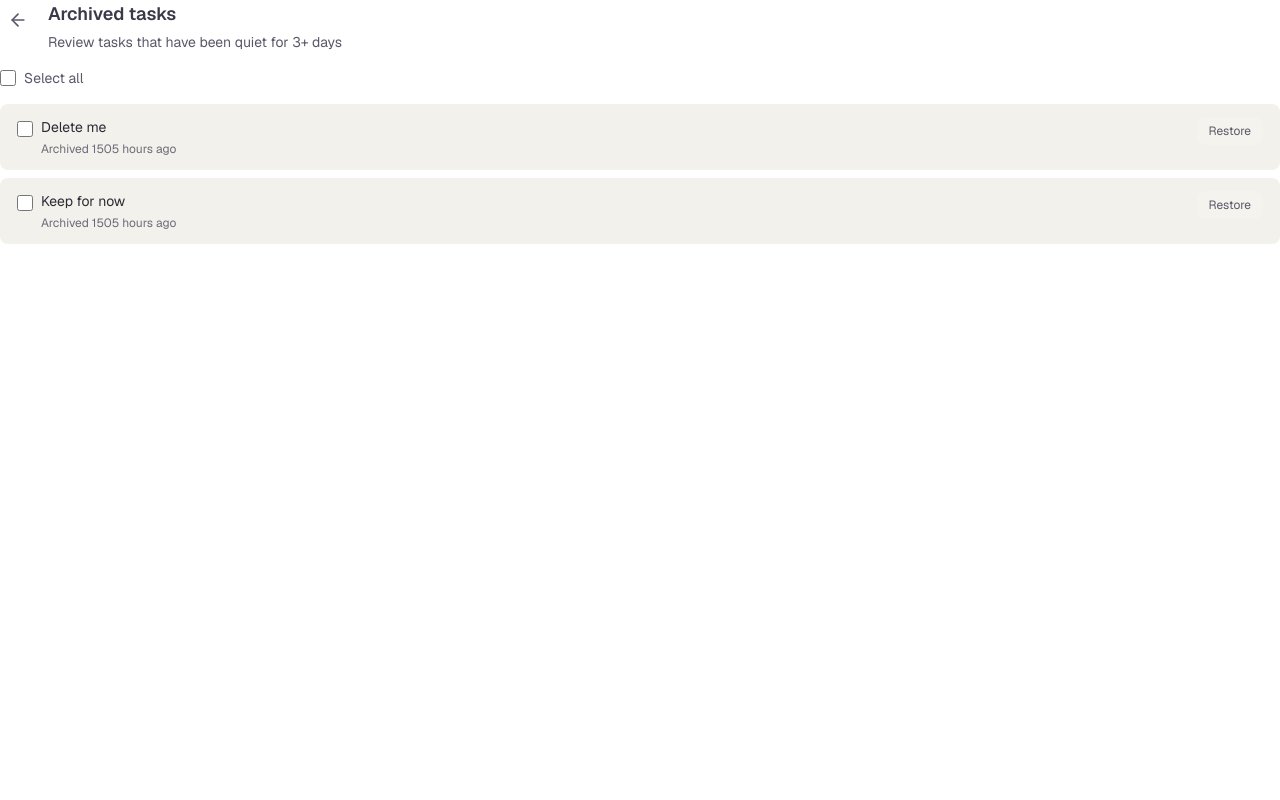
Test: TaskArchiveView › requires confirmation before deleting selected tasks
Click the 1st checkbox with test id "archived-task-checkbox" at point(25, 129), box [17, 121, 33, 137]
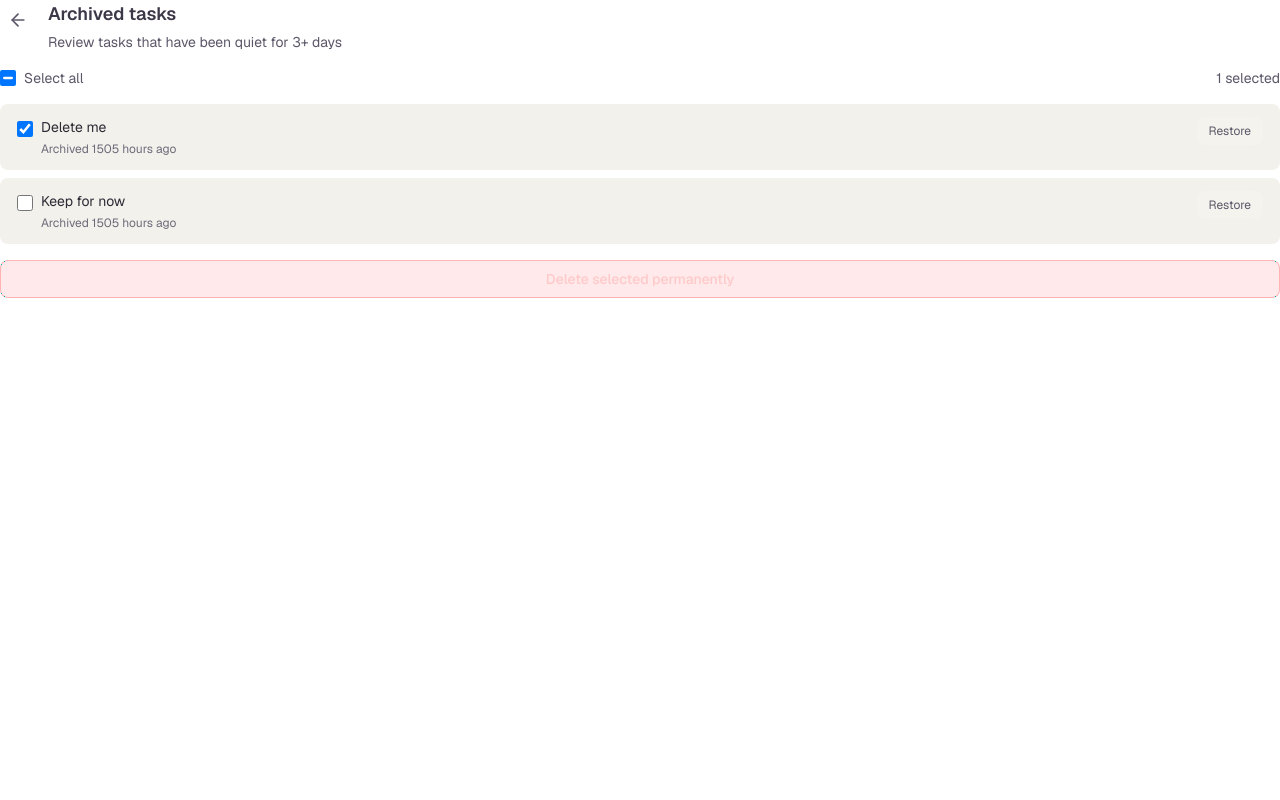
Click the button with test id "task-archive-delete-selected" at point(640, 279), box [0, 260, 1279, 298]
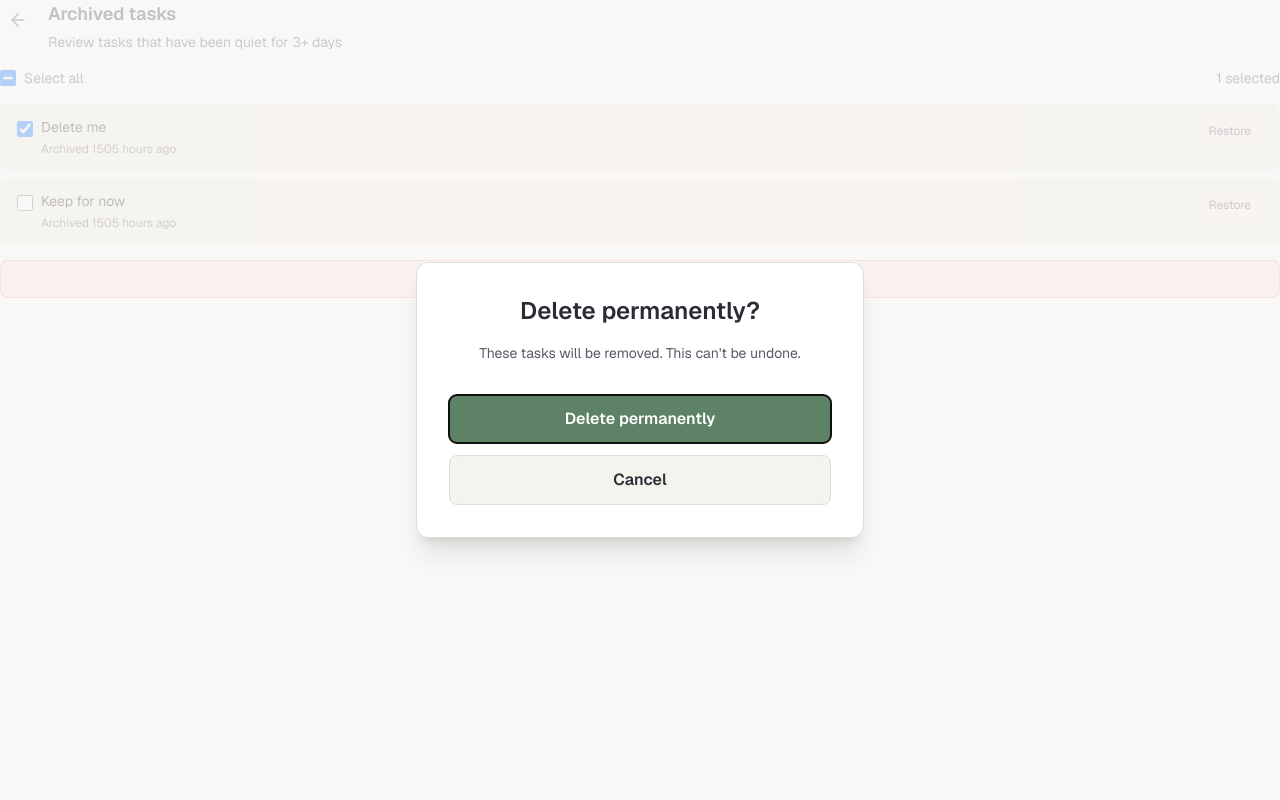
Expected: the dialog with test id "task-archive-delete-confirm" is shown
Click the button with test id "task-archive-delete-cancel-btn" at point(640, 480), box [449, 455, 831, 505]
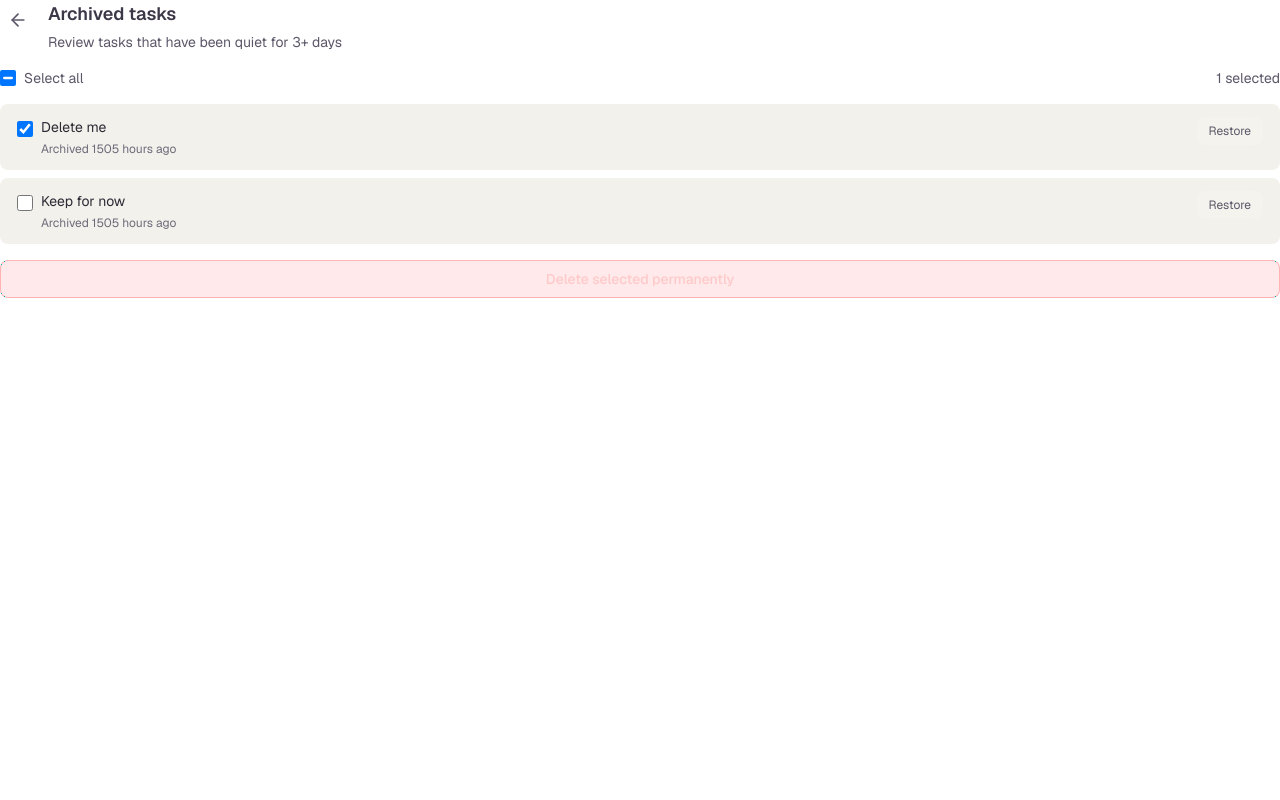
Expected: the dialog with test id "task-archive-delete-confirm" is gone
